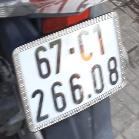0: (87, 60, 109, 98)
1: (89, 19, 115, 61)
2: (28, 84, 52, 126)
6: (47, 78, 72, 116), (64, 70, 88, 108), (32, 43, 54, 82)
7: (47, 36, 67, 78)
8: (102, 53, 123, 90)
C: (74, 26, 98, 67)
